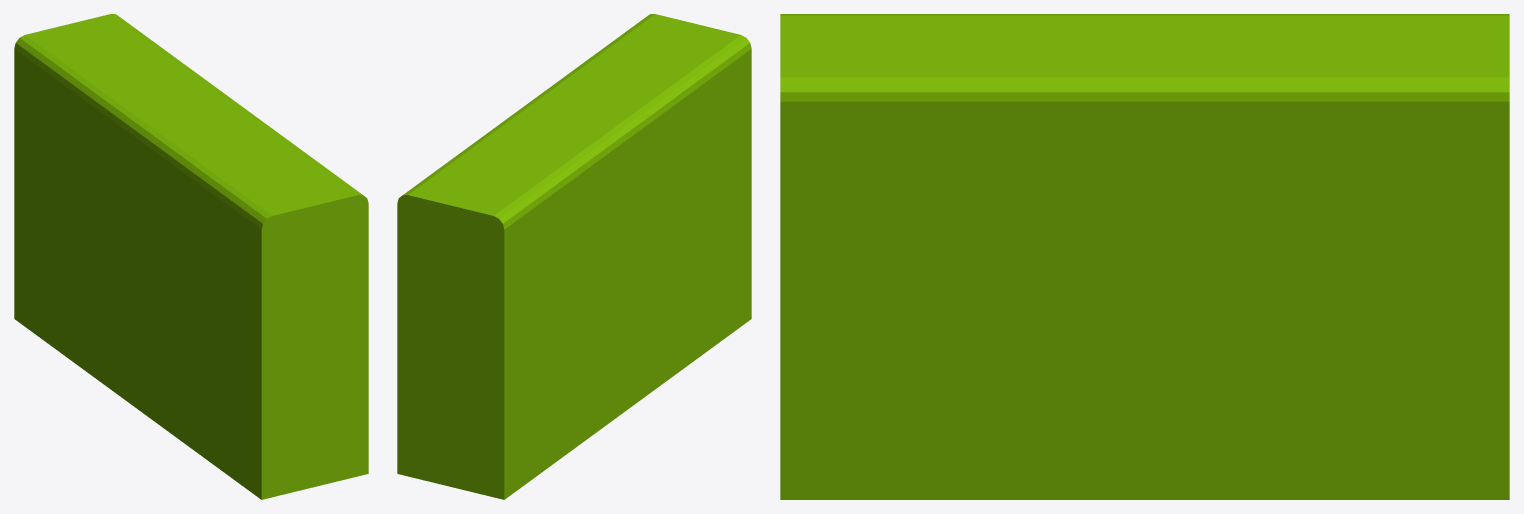
Rendered from Hedge.fbx.
The picture shows the model from 3 angles, left to right: view 1: azimuth 30°, elevation 25°; view 2: azimuth 150°, elevation 25°; view 3: azimuth 270°, elevation 25°; orthographic projection. The views are drawn at different scales.
Parts seen in each view (by area): view 1: Cube; view 2: Cube; view 3: Cube.
Boxes of the visible parts, x1=… form: Cube: x1=14, y1=14, x2=368, y2=499; Cube: x1=397, y1=14, x2=751, y2=499; Cube: x1=780, y1=14, x2=1509, y2=499.
Size of the model in its own units: 3 by 7.53 by 12.
